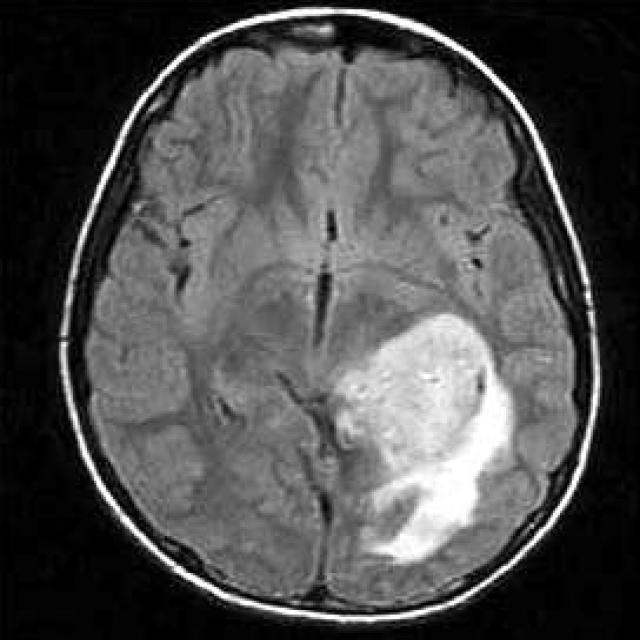Tumor-Cell: (326, 291, 510, 534)
